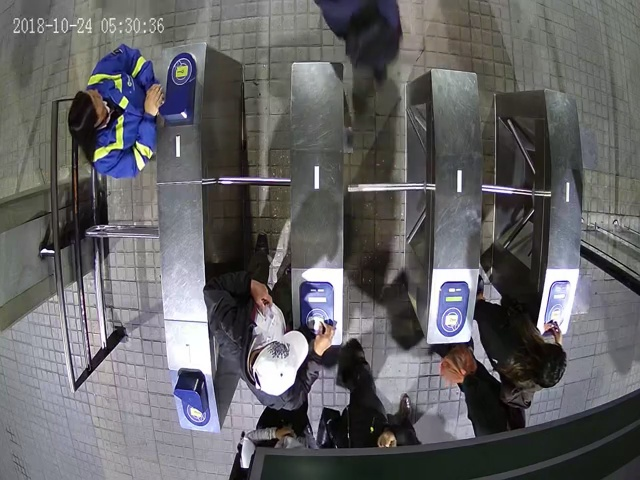Chaleco_azul: (68, 43, 164, 179)
